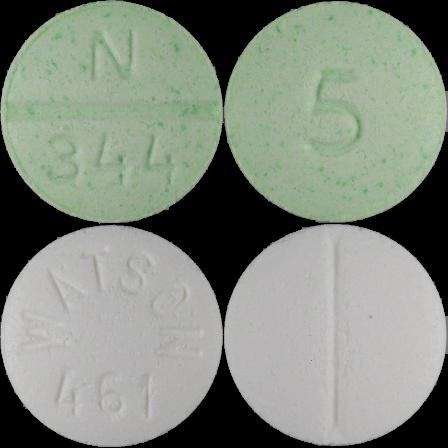50436-6409: (0, 0, 224, 224)
